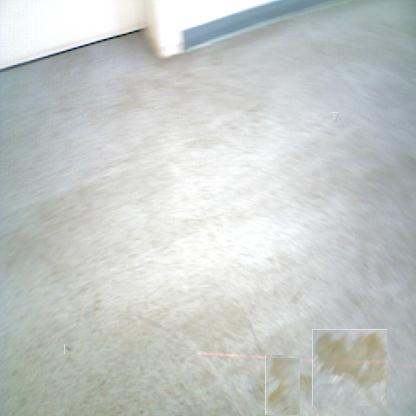liquid: (312, 329, 387, 406), (258, 362, 308, 411)
mark: (64, 344, 73, 354), (331, 113, 340, 123)
